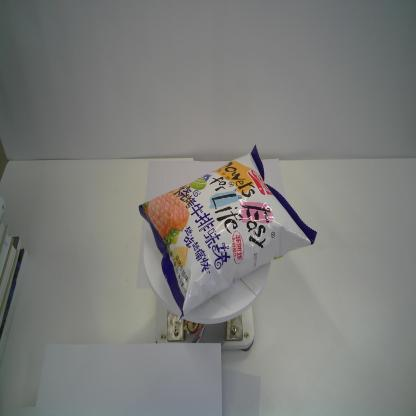Puffed Food: (138, 142, 318, 324)
